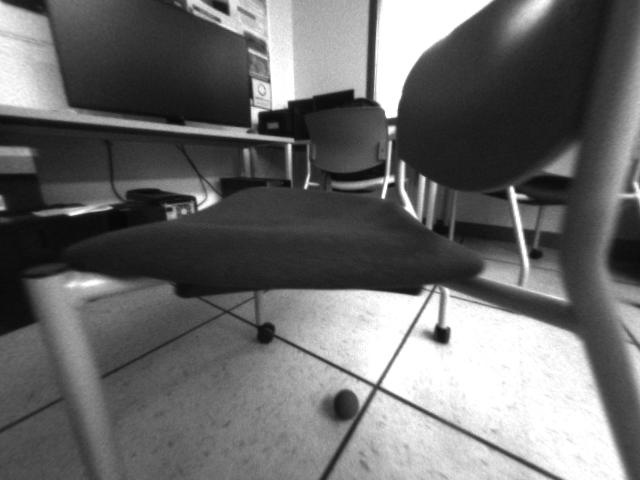dogtoy: (326, 382, 372, 423)
